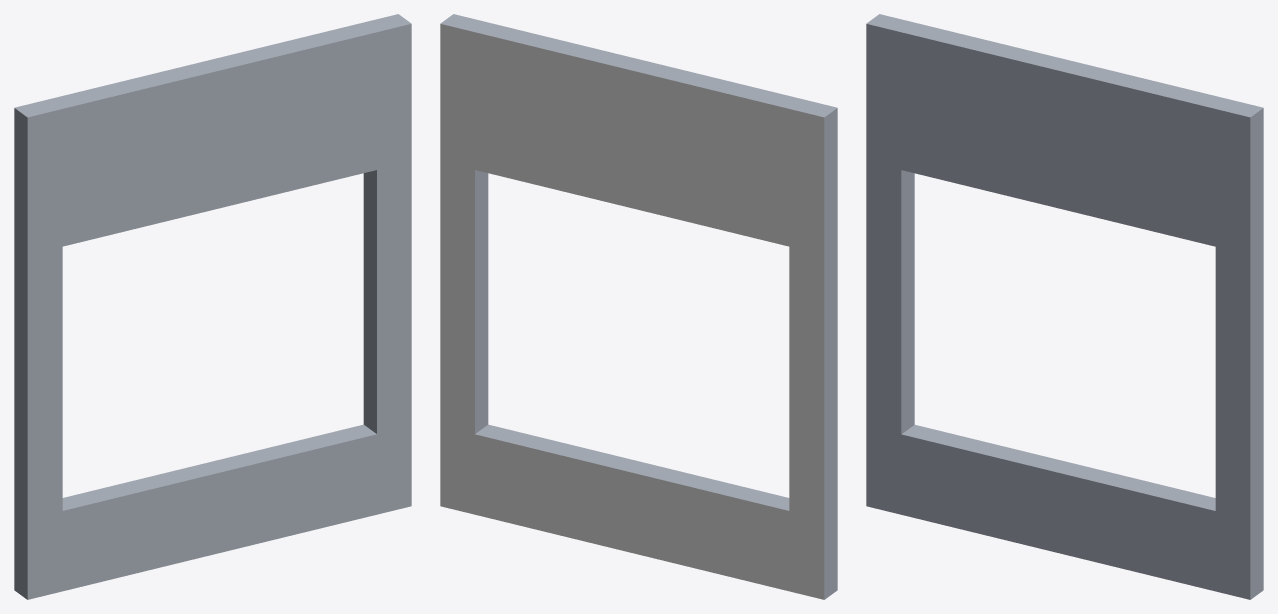
Rendered from Wall1_C5_05.fbx.
3 renders of one model, left to right at view 1: azimuth 30°, elevation 25°; view 2: azimuth 150°, elevation 25°; view 3: azimuth 330°, elevation 25°, orthographic.
Parts seen in each view (by area): view 1: Wall1_C5_05; view 2: Wall1_C5_05; view 3: Wall1_C5_05.
Part boxes in pixels (box(x1,y1,x2,y2)): Wall1_C5_05: box(14, 14, 411, 599); Wall1_C5_05: box(440, 14, 837, 599); Wall1_C5_05: box(866, 14, 1263, 599).
Size of the model in its own units: 250 by 300 by 15.
